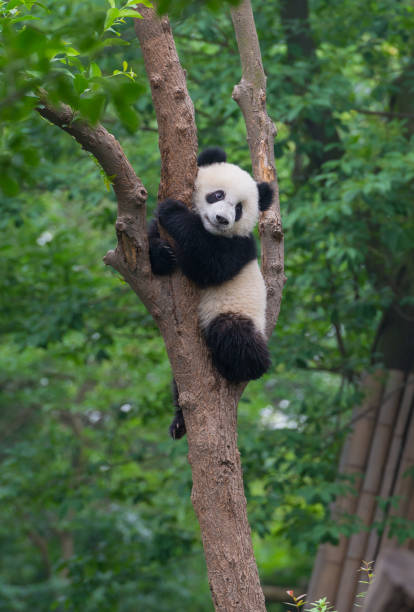panda: (180, 140, 291, 249)
